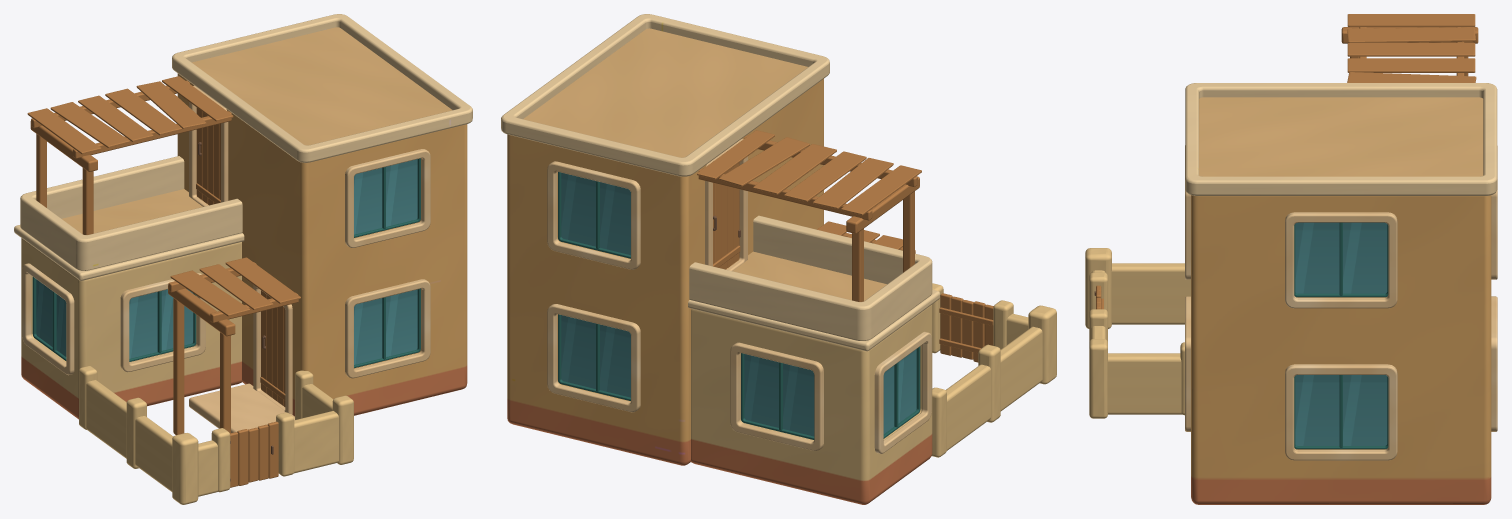
The model's file is SparkBound_House_04.fbx.
The picture shows the model from 3 angles, left to right: view 1: azimuth 30°, elevation 25°; view 2: azimuth 150°, elevation 25°; view 3: azimuth 270°, elevation 25°; orthographic projection. The views are drawn at different scales.
Visible parts, largest first — view 1: SparkBound_House_04_Geometry; view 2: SparkBound_House_04_Geometry; view 3: SparkBound_House_04_Geometry.
Part boxes in pixels (x1,y1,x2,y2): SparkBound_House_04_Geometry: (14, 14, 472, 504); SparkBound_House_04_Geometry: (501, 14, 1056, 504); SparkBound_House_04_Geometry: (1085, 14, 1497, 504).
Size of the model in its own units: 7.73 by 6.64 by 7.
